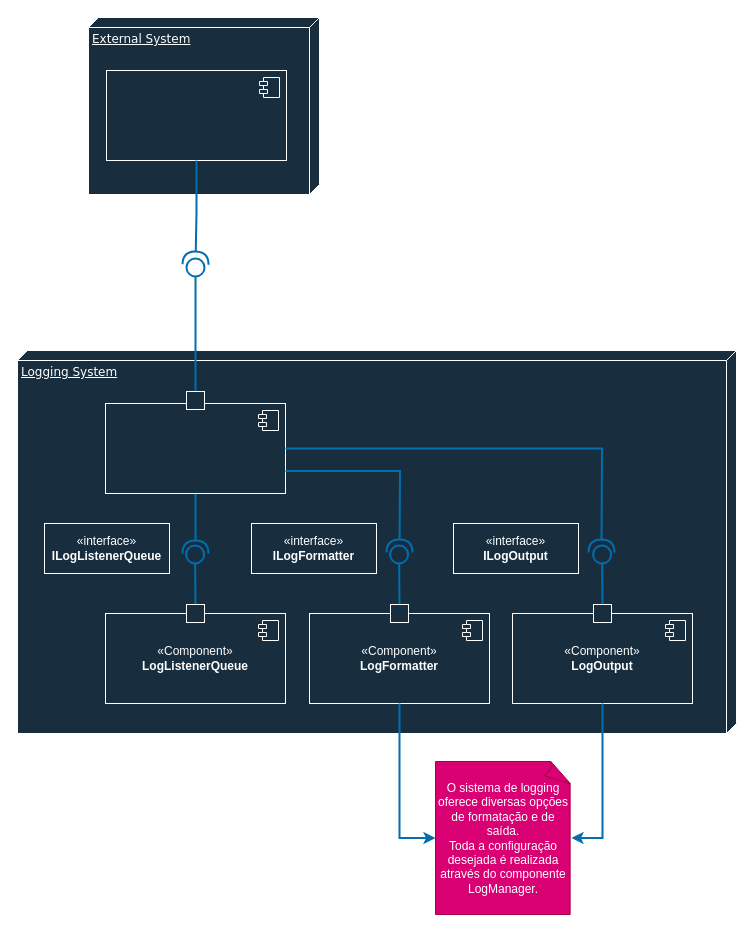
Image size: 754x932. Some labels were removed from this diagram. The centre of each missing label's shape, as x and y in pixels:
"«Component» ExternalComponent" belongs at (x=196, y=115).
"«Component» LogManager" belongs at (x=195, y=448).
